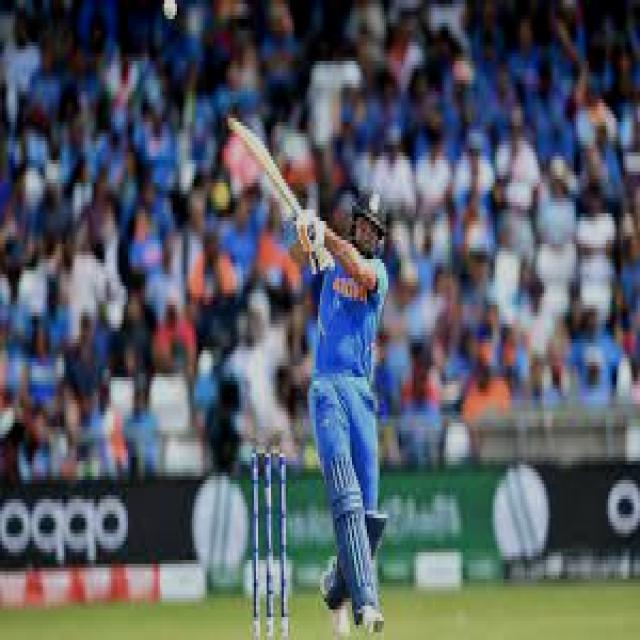toe: (223, 112, 246, 138)
